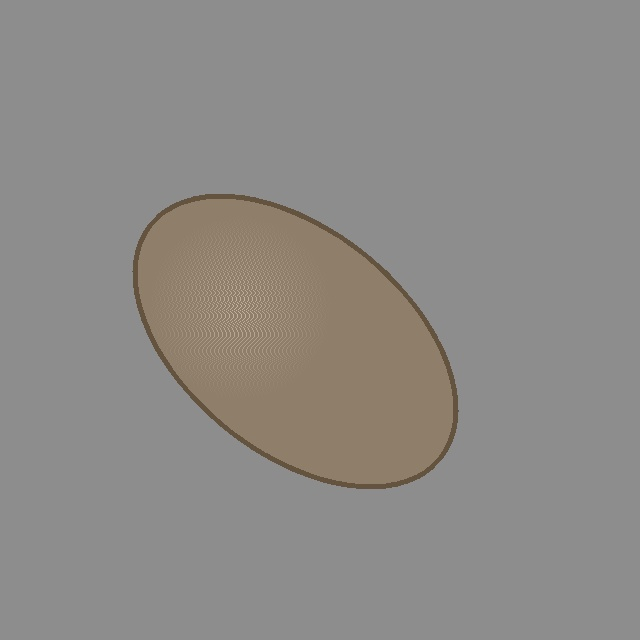lens: (135, 196, 455, 486)
